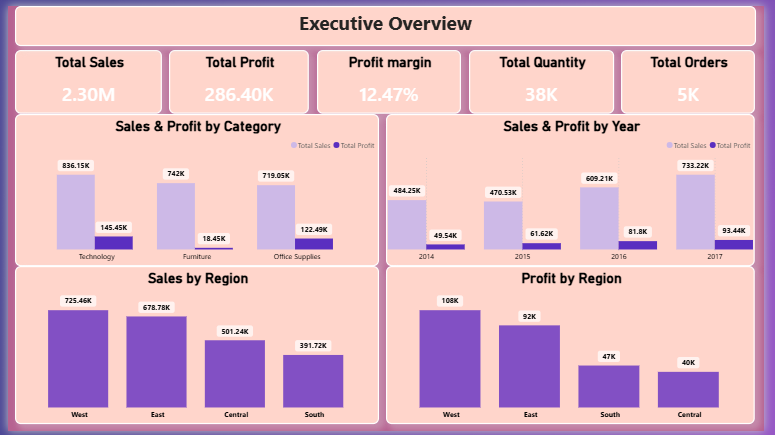

The dashboard page shown, as its layout file describes it:
{"tool":"powerbi","page":{"name":"Executive Overview","canvas":[1280,720],"ordinal":0},"visuals":[{"type":"cardVisual","title":"Total Sales","fields":{"Data":["superstore_db superstore.Total Sales"]},"box":[11.9,74.6,249.2,108.5],"z":0},{"type":"cardVisual","title":"Total Orders","fields":{"Data":["superstore_db superstore.Total Orders"]},"box":[1039,74.6,227.1,108.5],"z":1000},{"type":"cardVisual","title":"Total Profit","fields":{"Data":["superstore_db superstore.Total Profit"]},"box":[272.9,74.6,237.3,108.5],"z":2000},{"type":"cardVisual","title":"Total Quantity","fields":{"Data":["superstore_db superstore.Total Quantity"]},"box":[781.4,74.6,245.8,108.5],"z":3000},{"type":"cardVisual","title":"Profit margin","fields":{"Data":["superstore_db superstore.Profit Margin"]},"box":[523.7,74.6,244.1,108.5],"z":4000},{"type":"lineClusteredColumnComboChart","title":"Sales & Profit by Category","fields":{"Category":["superstore_db superstore.category"],"Y":["superstore_db superstore.Total Sales","superstore_db superstore.Total Profit"]},"box":[11.9,183.1,616.9,257.6],"z":5000},{"type":"lineClusteredColumnComboChart","title":"Sales & Profit by Year","fields":{"Y":["superstore_db superstore.Total Sales","superstore_db superstore.Total Profit"],"Category":["superstore_db superstore.order_date.Variation.Date Hierarchy.Year"]},"box":[640.7,183.1,625.4,257.6],"z":6000},{"type":"lineClusteredColumnComboChart","title":"Sales by Region","fields":{"Category":["superstore_db superstore.region"],"Y":["superstore_db superstore.Total Sales"]},"box":[11.9,440.7,616.9,267.8],"z":7000},{"type":"lineClusteredColumnComboChart","title":"Profit by Region","fields":{"Category":["superstore_db superstore.region"],"Y":["superstore_db superstore.Total Profit"]},"box":[640.7,440.7,625.4,267.8],"z":8000},{"type":"textbox","box":[11.9,0,1255.9,67.8],"z":8001}]}

Visuals, with their boxes in screenshot pixels (x1, y1, x2, y2), scaled from the page's 1280x720 canvas onto the 775x435 screenshot:
"Total Sales" cardVisual: {"x1": 7, "y1": 45, "x2": 158, "y2": 111}
"Total Orders" cardVisual: {"x1": 629, "y1": 45, "x2": 767, "y2": 111}
"Total Profit" cardVisual: {"x1": 165, "y1": 45, "x2": 309, "y2": 111}
"Total Quantity" cardVisual: {"x1": 473, "y1": 45, "x2": 622, "y2": 111}
"Profit margin" cardVisual: {"x1": 317, "y1": 45, "x2": 465, "y2": 111}
"Sales & Profit by Category" lineClusteredColumnComboChart: {"x1": 7, "y1": 111, "x2": 381, "y2": 266}
"Sales & Profit by Year" lineClusteredColumnComboChart: {"x1": 388, "y1": 111, "x2": 767, "y2": 266}
"Sales by Region" lineClusteredColumnComboChart: {"x1": 7, "y1": 266, "x2": 381, "y2": 428}
"Profit by Region" lineClusteredColumnComboChart: {"x1": 388, "y1": 266, "x2": 767, "y2": 428}
textbox: {"x1": 7, "y1": 0, "x2": 768, "y2": 41}
